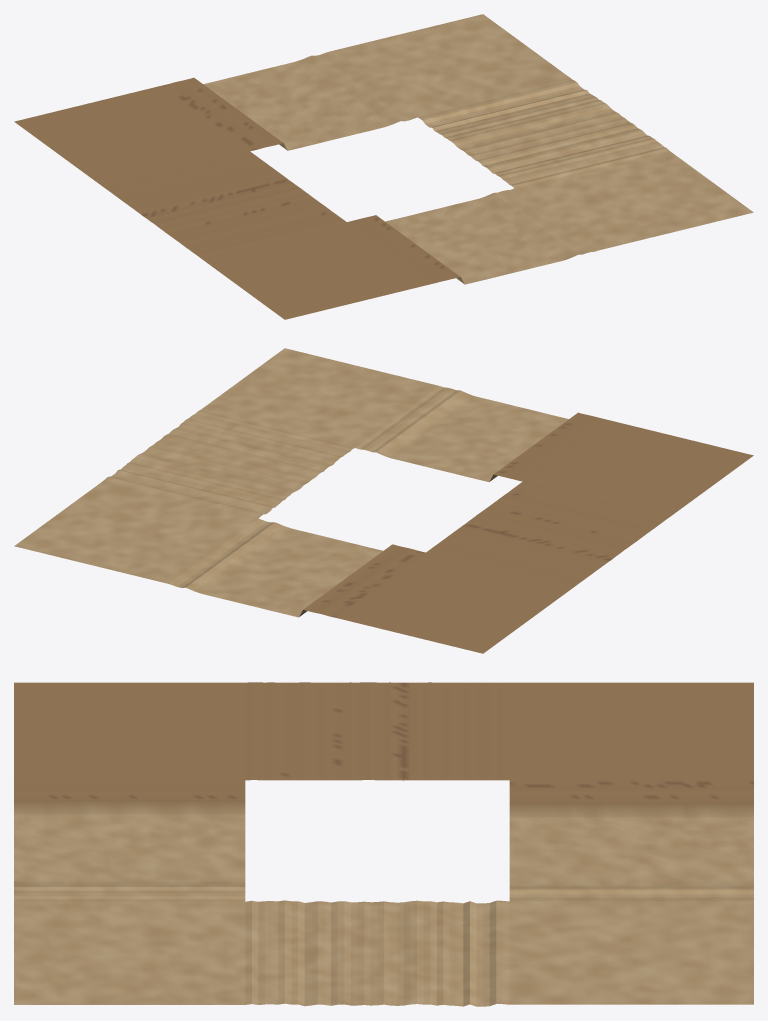
Rendered from backdrop_ground.glb.
3 renders of one model, top to bottom at view 1: azimuth 30°, elevation 25°; view 2: azimuth 150°, elevation 25°; view 3: azimuth 270°, elevation 25°, orthographic. The views are drawn at different scales.
Parts seen in each view (by area): view 1: FarGround; view 2: FarGround; view 3: FarGround.
Boxes of the visible parts, <box> form: FarGround: <box>14,14,753,319</box>; FarGround: <box>14,348,753,653</box>; FarGround: <box>14,682,753,1006</box>.
Bounding box in the file's own units: 2240 × 41.17 × 2240.
